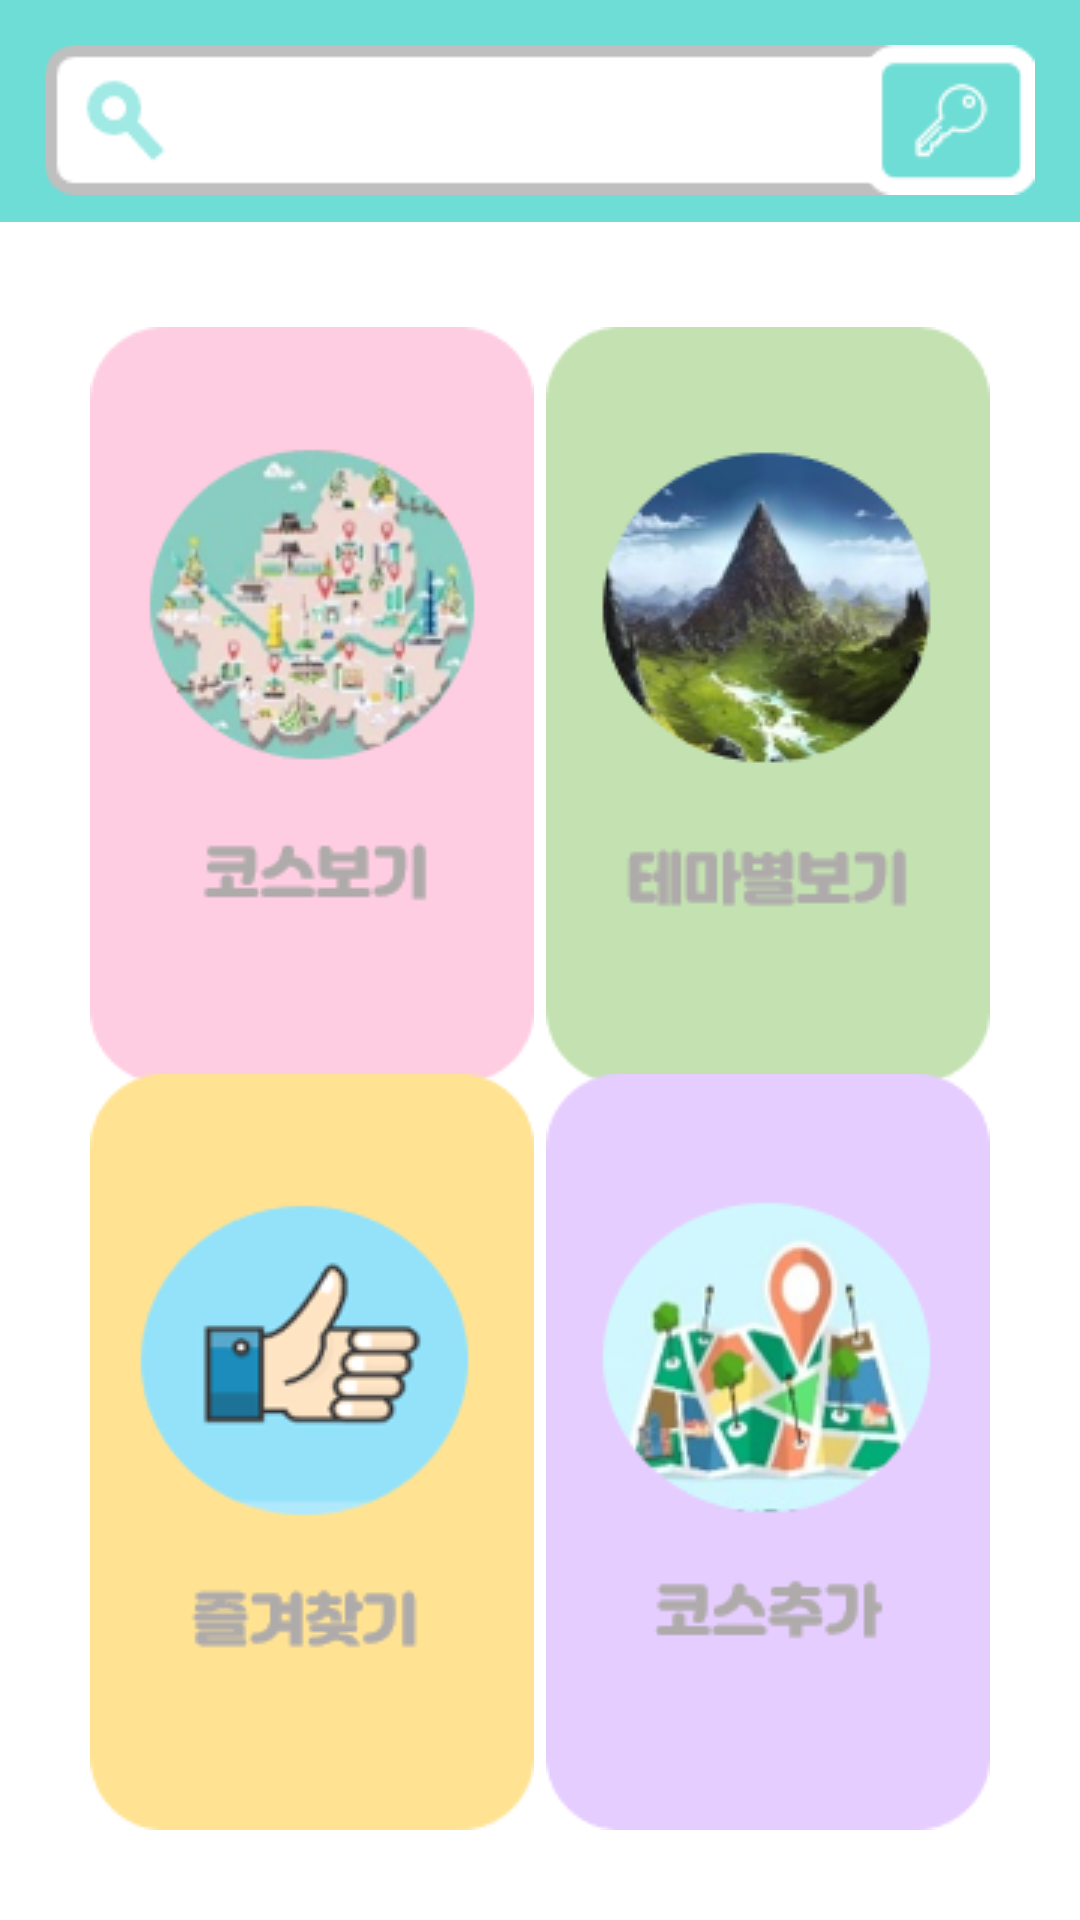

Icons on this 1080*1920 Android screen, each with the point to tap as (x,y):
key: (951,120)
